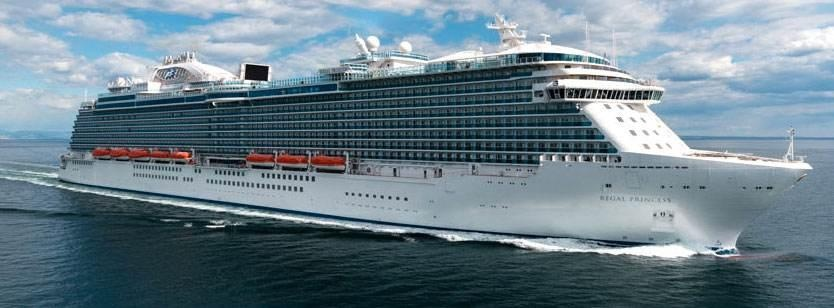youlun: (59, 10, 815, 255)
